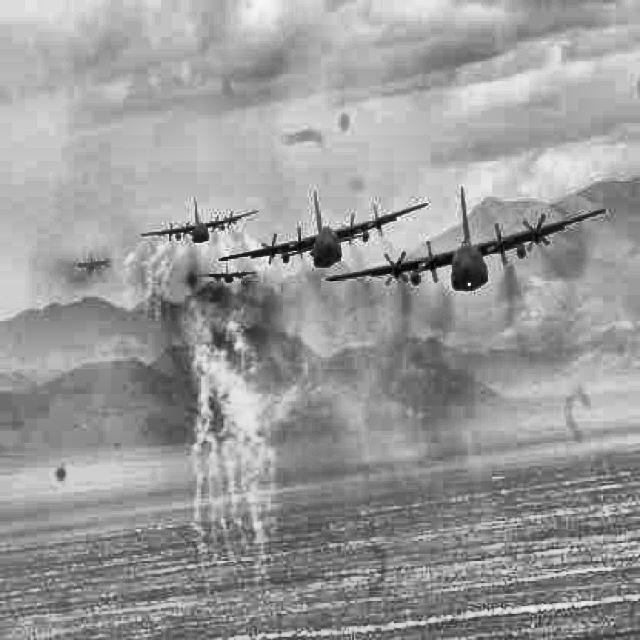C130: (326, 186, 606, 292), (218, 192, 428, 268), (140, 197, 260, 243), (200, 260, 258, 283), (70, 252, 115, 270), (226, 320, 260, 338)
